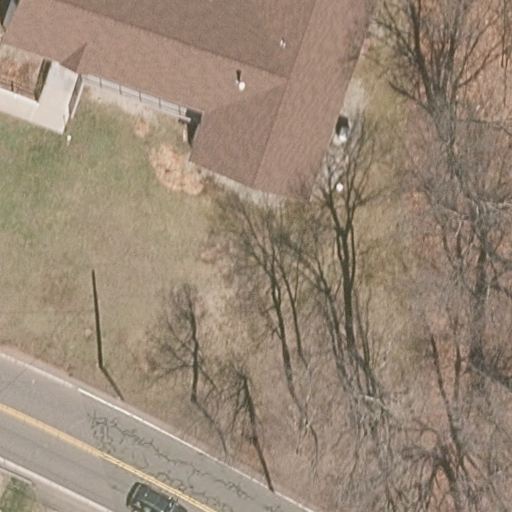DT: (90, 269, 105, 370)
